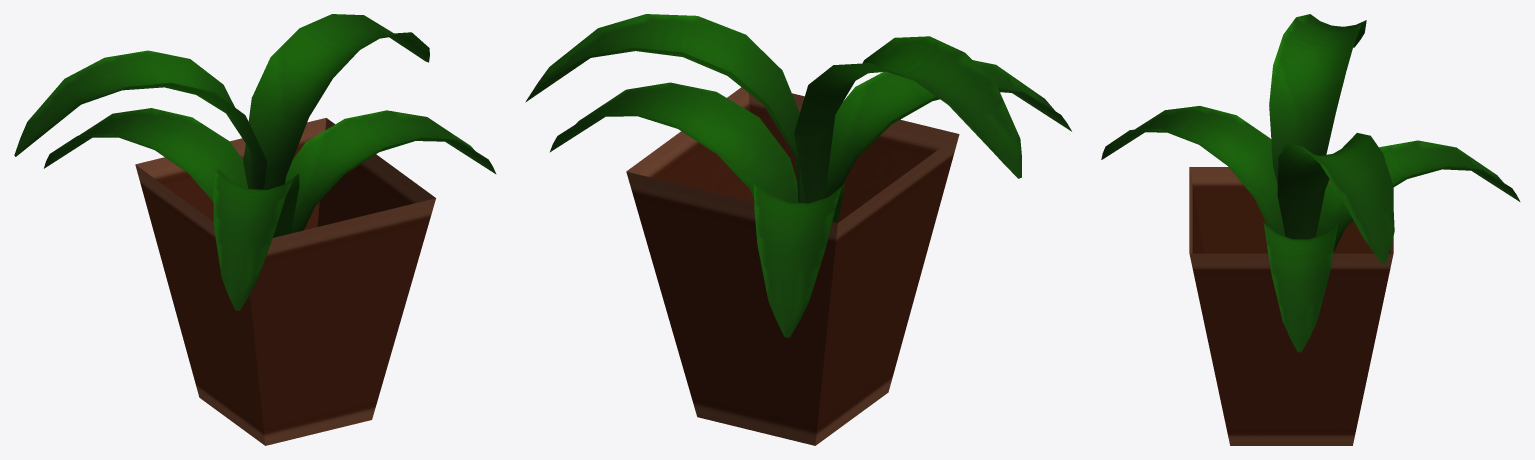
The model's file is Tx_props_plant_8.fbx.
3 views of the same model, side by side, from view 1: azimuth 30°, elevation 25°; view 2: azimuth 150°, elevation 25°; view 3: azimuth 270°, elevation 25° (orthographic). The views are drawn at different scales.
Parts seen in each view (by area): view 1: Tx_props_plant_8; view 2: Tx_props_plant_8; view 3: Tx_props_plant_8.
Boxes of the visible parts, x1,y1,x2,y2 form: Tx_props_plant_8: (14,14,496,445); Tx_props_plant_8: (525,14,1071,445); Tx_props_plant_8: (1101,14,1520,445).
Bounding box in the file's own units: 3.01 × 2.28 × 2.6.
